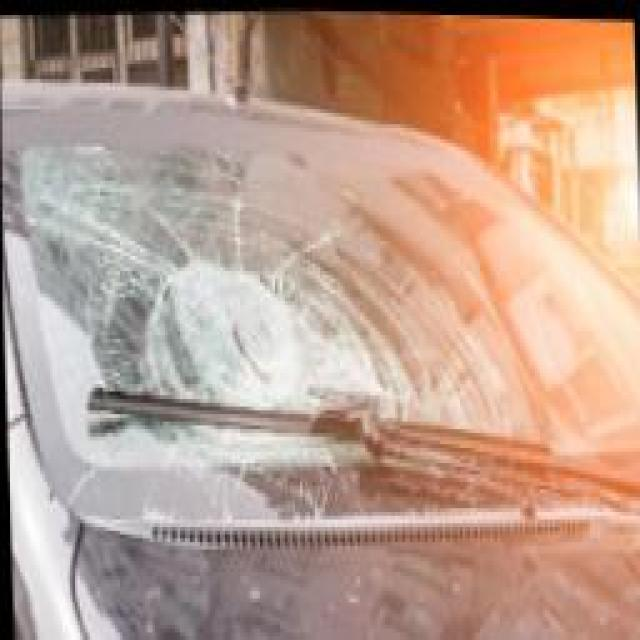Windshield: (38, 158, 515, 509)
